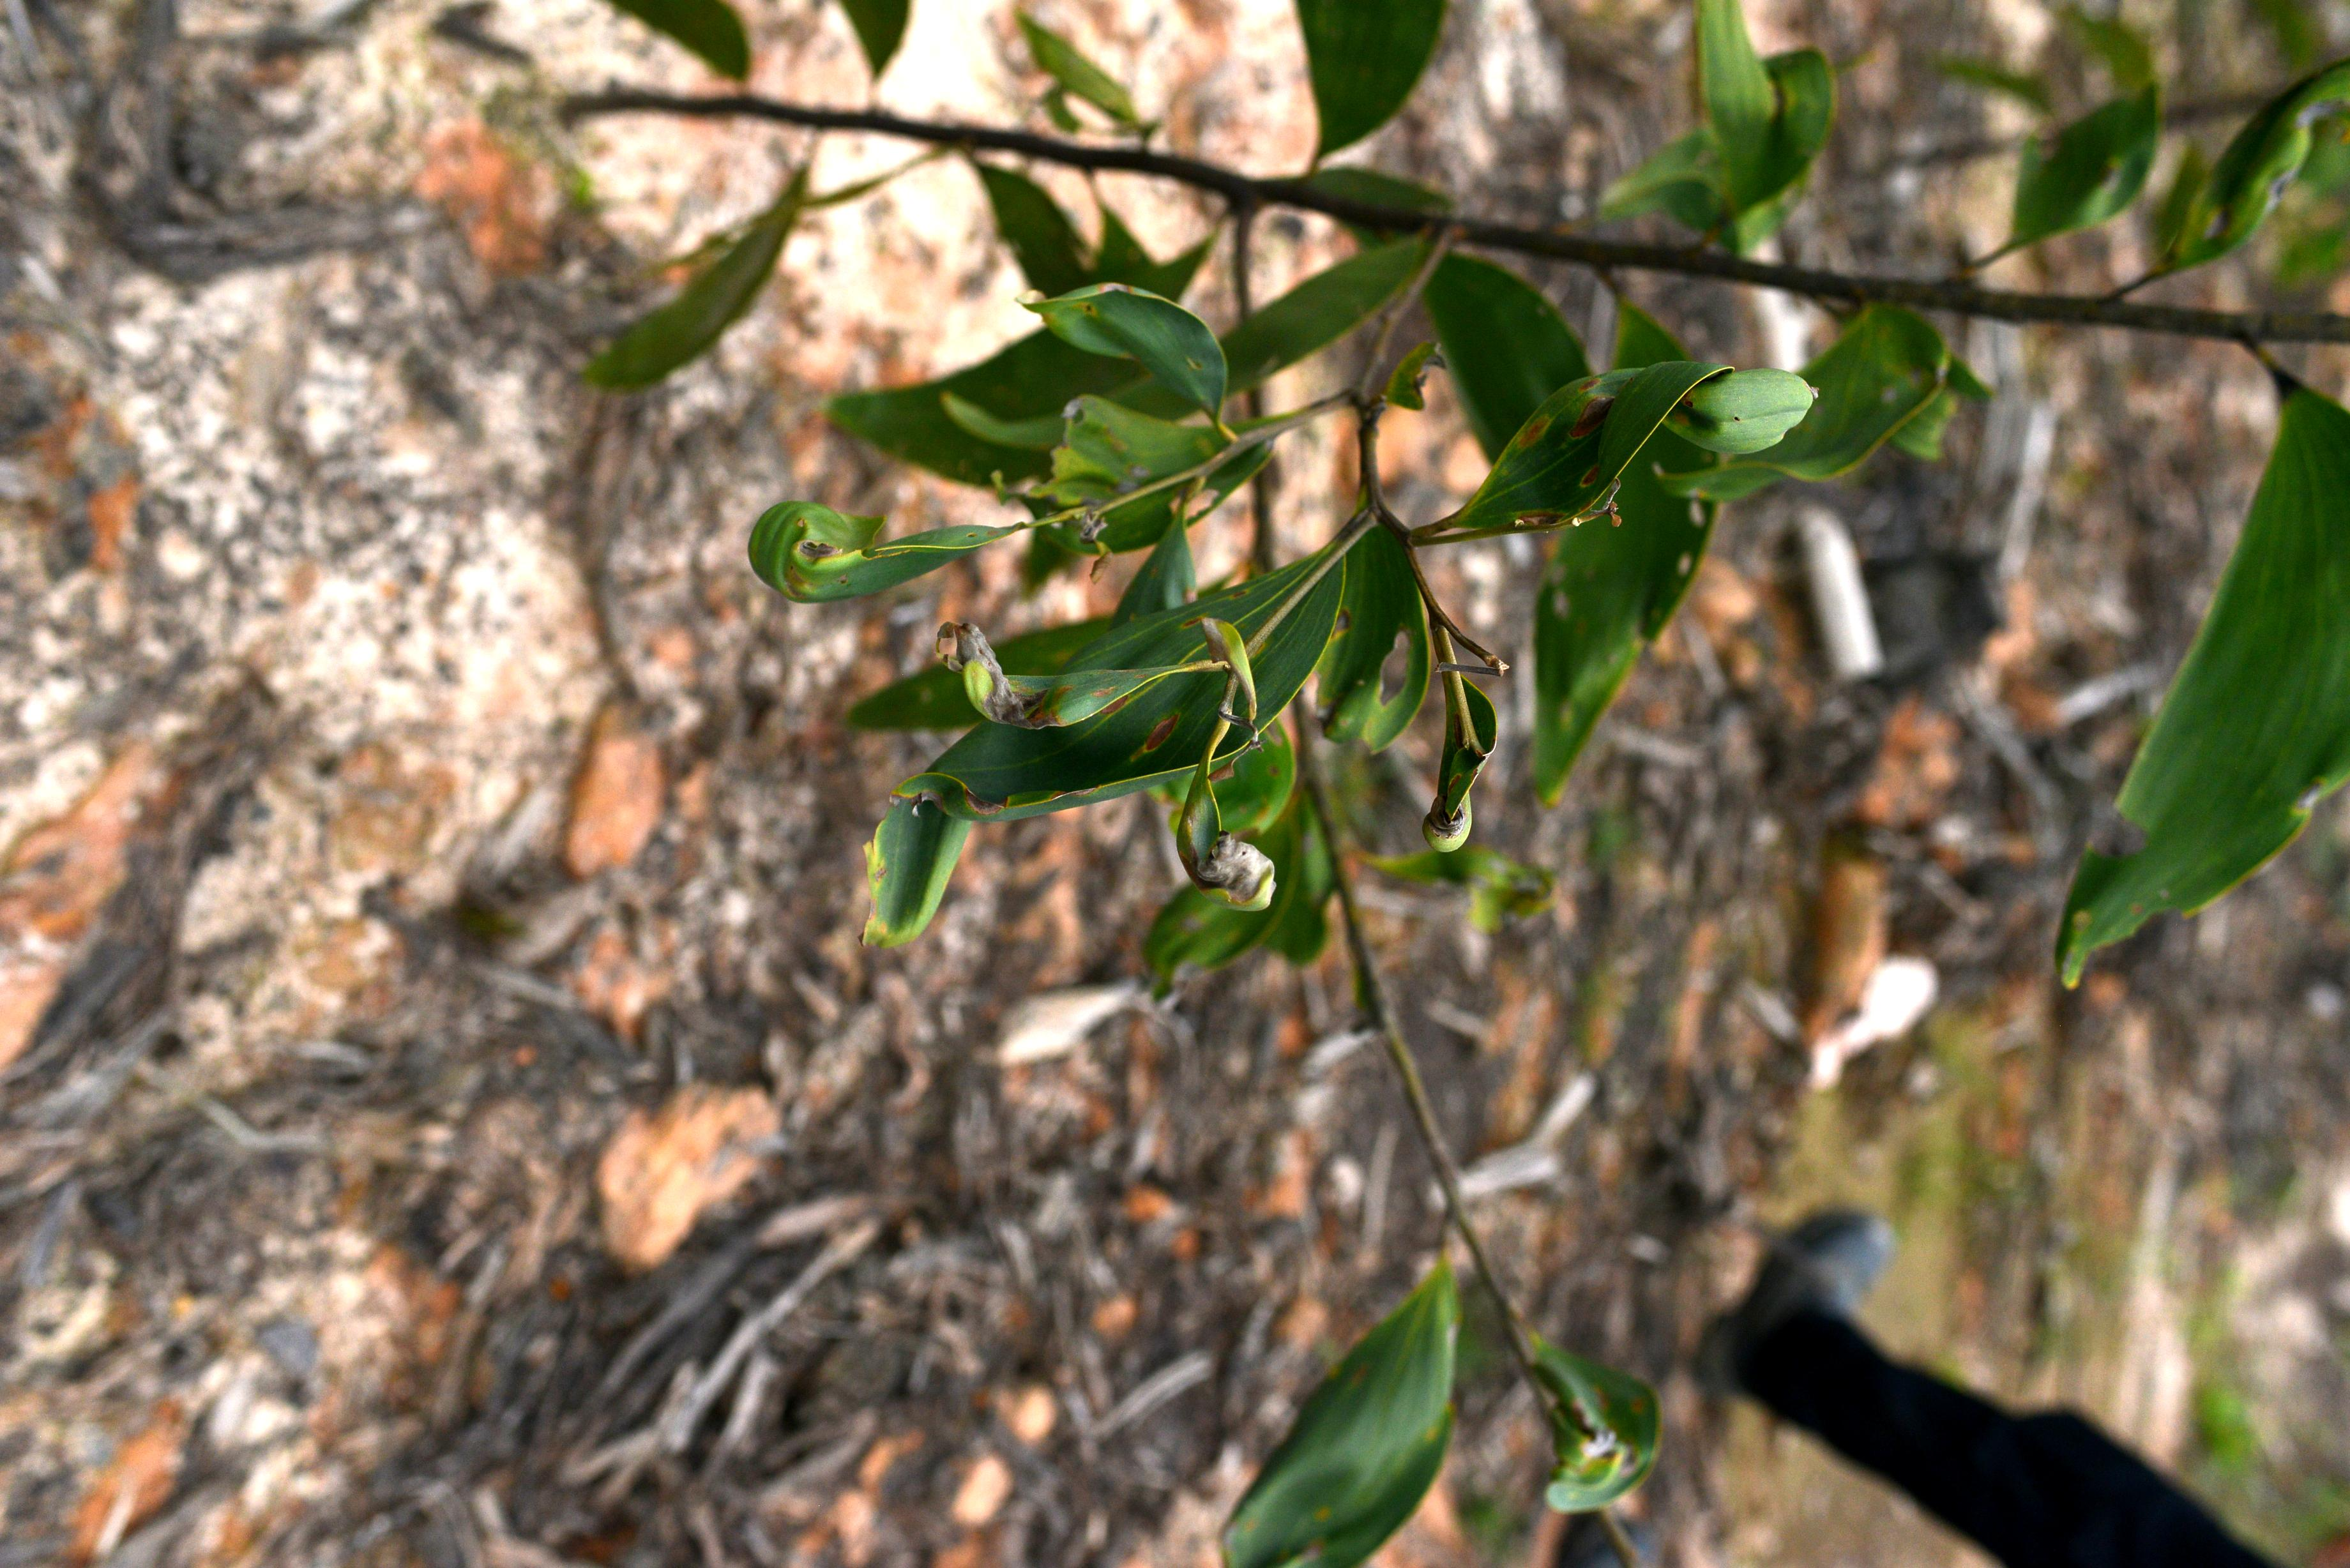Pasalora: (2051, 357, 2350, 996), (1207, 1258, 1473, 1568), (1412, 359, 1823, 523), (2194, 0, 2350, 343), (1013, 240, 1242, 472), (927, 597, 1235, 742), (1675, 0, 1837, 234), (1508, 1319, 1675, 1531), (866, 751, 1034, 952), (731, 492, 1029, 590), (1176, 744, 1307, 901), (1440, 661, 1519, 887)
